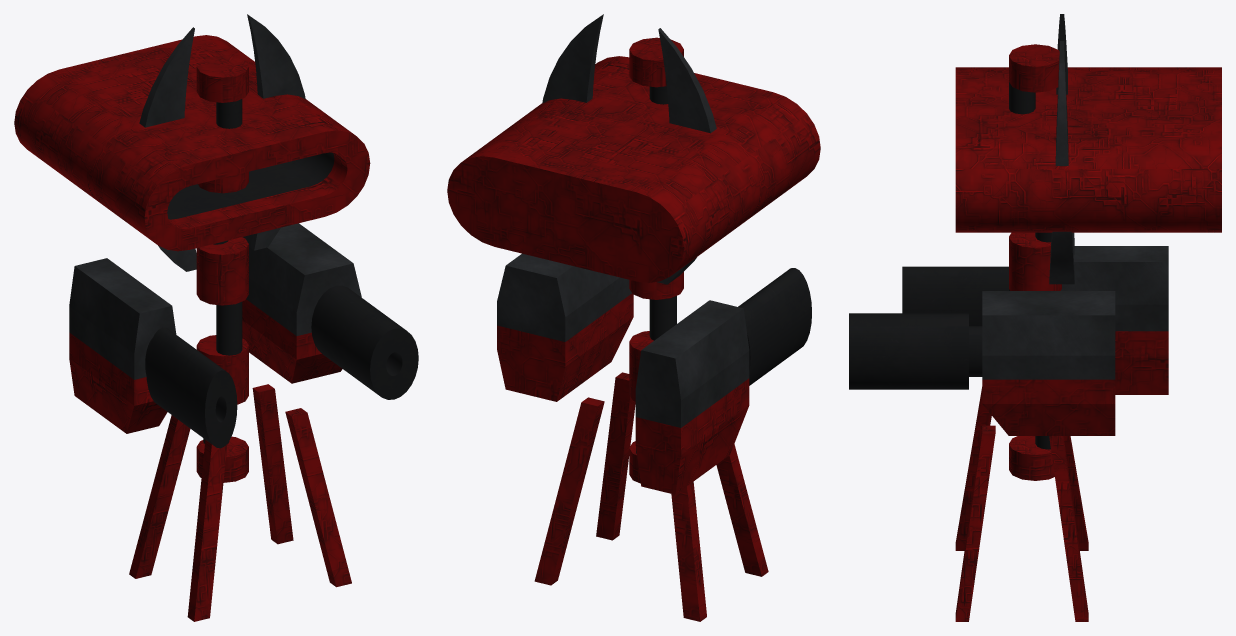
3 views of the same model, side by side, from view 1: azimuth 30°, elevation 25°; view 2: azimuth 150°, elevation 25°; view 3: azimuth 270°, elevation 25° (orthographic). The views are drawn at different scales.
Visible parts, largest first — view 1: mergedBlocks; view 2: mergedBlocks; view 3: mergedBlocks.
Boxes of the visible parts, x1,y1,x2,y2 form: mergedBlocks: [14, 14, 418, 621]; mergedBlocks: [447, 14, 820, 621]; mergedBlocks: [849, 14, 1221, 621].
Bounding box in the file's own units: 10.2 × 23 × 14.
